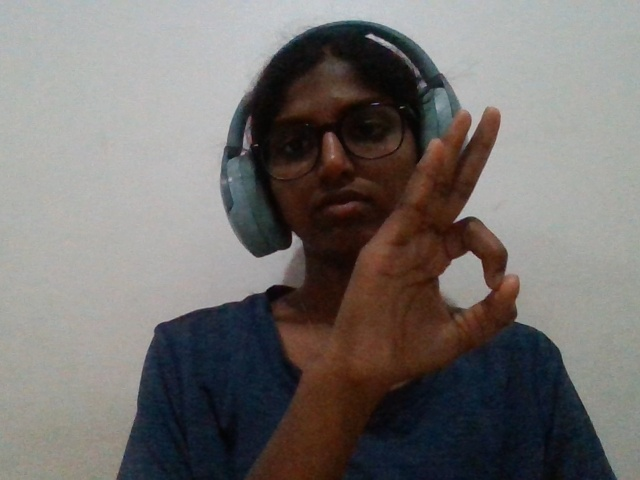F: (283, 84, 540, 417)
